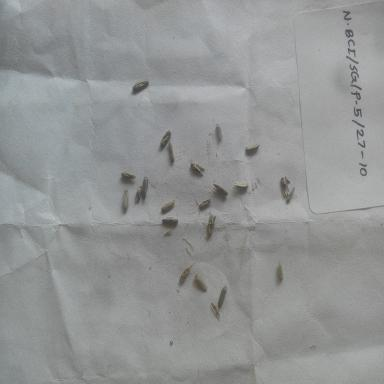pbw: (128, 75, 153, 96), (157, 212, 179, 232), (116, 165, 140, 182), (132, 183, 146, 210), (243, 137, 261, 157), (216, 283, 230, 308), (213, 121, 227, 146), (120, 187, 132, 216), (140, 175, 152, 203), (159, 127, 173, 149), (204, 214, 218, 236), (194, 273, 210, 292), (279, 175, 292, 197), (179, 262, 192, 283), (195, 195, 212, 211), (160, 198, 176, 214), (213, 182, 230, 197), (190, 160, 206, 175), (166, 141, 176, 164), (275, 258, 284, 282), (286, 184, 296, 204), (234, 179, 250, 190)
